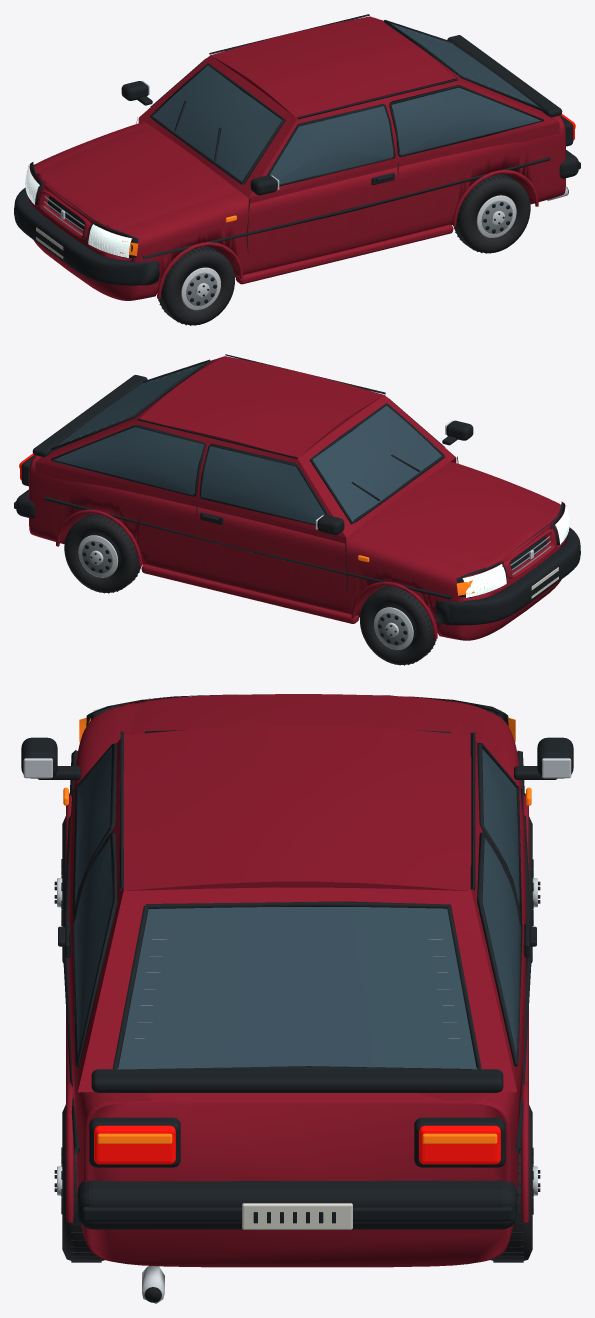
The model's file is samara.glb.
3 renders of one model, top to bottom at view 1: azimuth 30°, elevation 25°; view 2: azimuth 150°, elevation 25°; view 3: azimuth 270°, elevation 25°, orthographic. The views are drawn at different scales.
Visible parts, largest first — view 1: Body_Paint_samara, Body_Curved smoked glass, Body_Black trim, StockBumpers_Black trim, Wheel_RR_Tyre, Wheel_FR_Tyre, StockSkirts_Paint_samara, StockSpoiler_Black trim, Body_Prismatic headlight glass, StockFenders_Paint_samara, Wheel_RR_Machined aluminium, Wheel_FR_Machined aluminium (+4 smaller); view 2: Body_Paint_samara, Body_Curved smoked glass, Body_Black trim, StockBumpers_Black trim, Wheel_RL_Tyre, Wheel_FL_Tyre, StockSkirts_Paint_samara, StockSpoiler_Black trim, StockFenders_Paint_samara, Body_Prismatic headlight glass, Wheel_RL_Machined aluminium, Wheel_FL_Machined aluminium (+4 smaller); view 3: Body_Paint_samara, Body_Curved smoked glass, Body_Black trim, StockBumpers_Black trim, StockSpoiler_Black trim, Body_Red lens, Body_Numberplate, StockFenders_Paint_samara, Body_Amber lens, Body_Machined aluminium, Wheel_RL_Tyre, Wheel_RR_Tyre.
Part boxes in pixels (x1,y1,x2,y2): Body_Paint_samara: (28,16,565,300); Body_Curved smoked glass: (153,23,541,184); Body_Black trim: (29,14,573,259); StockBumpers_Black trim: (14,150,580,285); Wheel_RR_Tyre: (454,174,530,253); Wheel_FR_Tyre: (158,246,234,325); StockSkirts_Paint_samara: (236,224,453,284); StockSpoiler_Black trim: (447,35,562,117); Body_Prismatic headlight glass: (25,164,132,257); StockFenders_Paint_samara: (157,170,538,298); Wheel_RR_Machined aluminium: (476,195,516,237); Wheel_FR_Machined aluminium: (181,267,220,310); Body_Paint_samara: (29,356,566,640); Body_Curved smoked glass: (53,363,441,523); Body_Black trim: (21,354,565,599); StockBumpers_Black trim: (14,489,580,625); Wheel_RL_Tyre: (64,513,140,592); Wheel_FL_Tyre: (360,585,435,665); StockSkirts_Paint_samara: (141,564,358,623); StockSpoiler_Black trim: (32,375,147,456); StockFenders_Paint_samara: (56,509,437,638); Body_Prismatic headlight glass: (462,504,569,597); Wheel_RL_Machined aluminium: (78,535,118,577); Wheel_FL_Machined aluminium: (374,607,413,649); Body_Paint_samara: (68,694,526,1267); Body_Curved smoked glass: (75,749,519,1069); Body_Black trim: (21,694,573,1302); StockBumpers_Black trim: (77,1180,517,1229); StockSpoiler_Black trim: (91,1069,503,1092); Body_Red lens: (94,1125,500,1164); Body_Numberplate: (242,1203,352,1229); StockFenders_Paint_samara: (66,793,528,1222); Body_Amber lens: (63,717,531,1143); Body_Machined aluminium: (23,758,571,1303); Wheel_RL_Tyre: (491,1105,532,1261); Wheel_RR_Tyre: (62,1104,104,1261).
Size of the model in its own units: 4.01 by 1.4 by 1.99.
